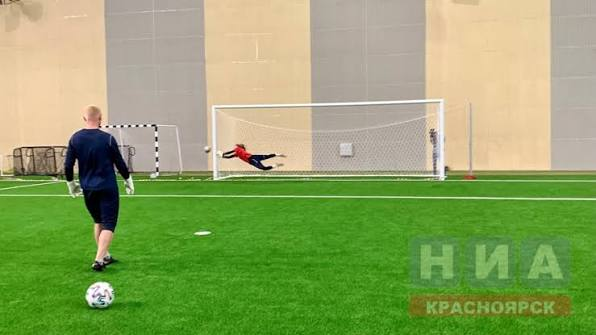ball: (85, 282, 114, 309)
ignore: (203, 145, 211, 153)
player: (64, 105, 135, 272), (222, 144, 287, 171)
